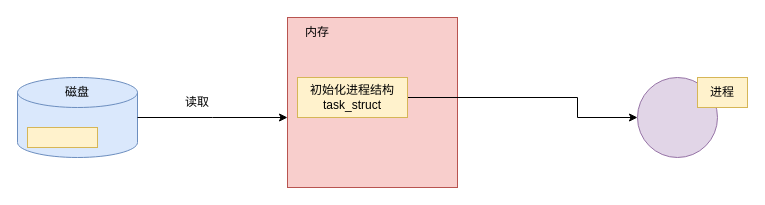
This 765x205 diagram has some shape labels left out. The shapes that lost their labels are listed below. From the top down, each one's box as (x1, y1, x2, y2) in pixels, then its label:
(26, 126, 98, 148): 可执行文件
(636, 76, 718, 158): CPU
